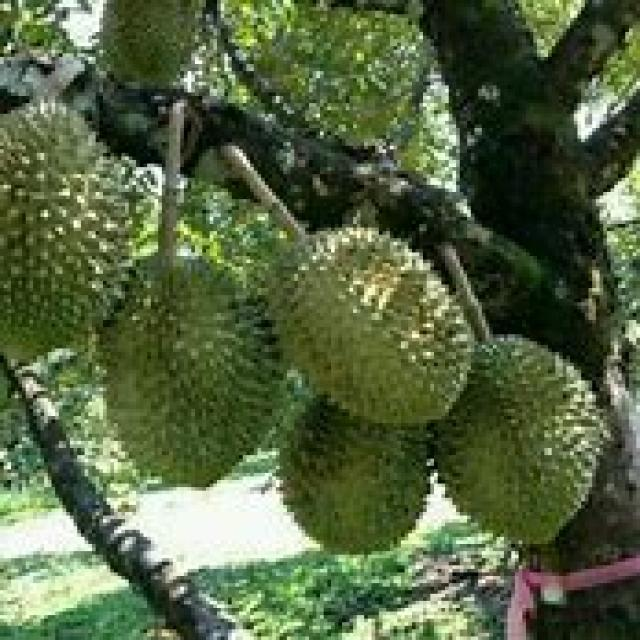immature: (91, 251, 284, 487), (260, 224, 476, 421), (0, 92, 137, 360), (432, 334, 603, 548), (271, 387, 433, 556)
